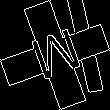M_S: (24, 23, 86, 87)
